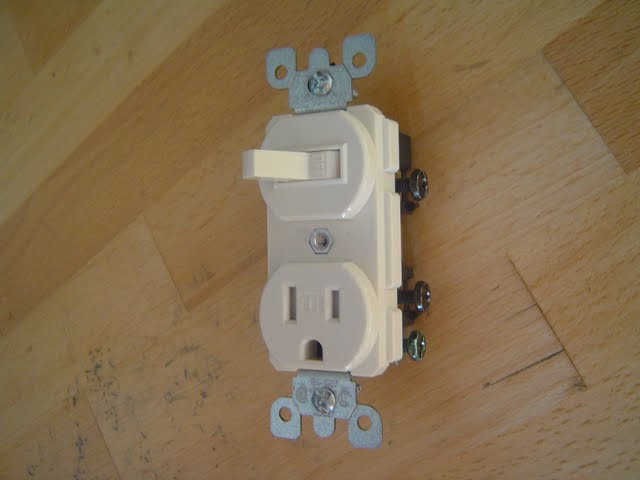outlet: (277, 279, 352, 368)
